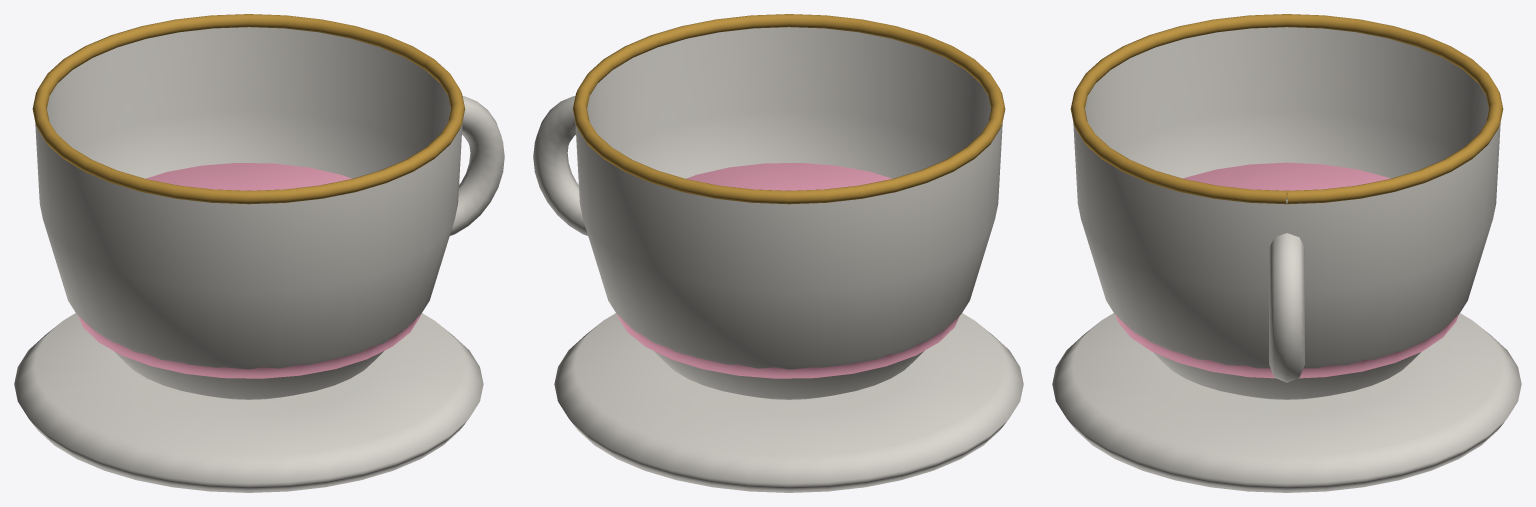
Rendered from furn_teacup_chair.glb.
3 views of the same model, side by side, from view 1: azimuth 30°, elevation 25°; view 2: azimuth 150°, elevation 25°; view 3: azimuth 270°, elevation 25° (orthographic).
Visible parts, largest first — view 1: furn_teacup_chair_gloss, furn_teacup_chair_main; view 2: furn_teacup_chair_gloss, furn_teacup_chair_main; view 3: furn_teacup_chair_gloss, furn_teacup_chair_main.
Boxes of the visible parts, box(x1,y1,x2,y2) form: furn_teacup_chair_gloss: box(14, 14, 504, 492); furn_teacup_chair_main: box(78, 163, 421, 378); furn_teacup_chair_gloss: box(533, 14, 1023, 492); furn_teacup_chair_main: box(616, 163, 959, 378); furn_teacup_chair_gloss: box(1052, 14, 1521, 492); furn_teacup_chair_main: box(1115, 162, 1458, 378).
Size of the model in its own units: 1.04 by 0.639 by 0.92.
